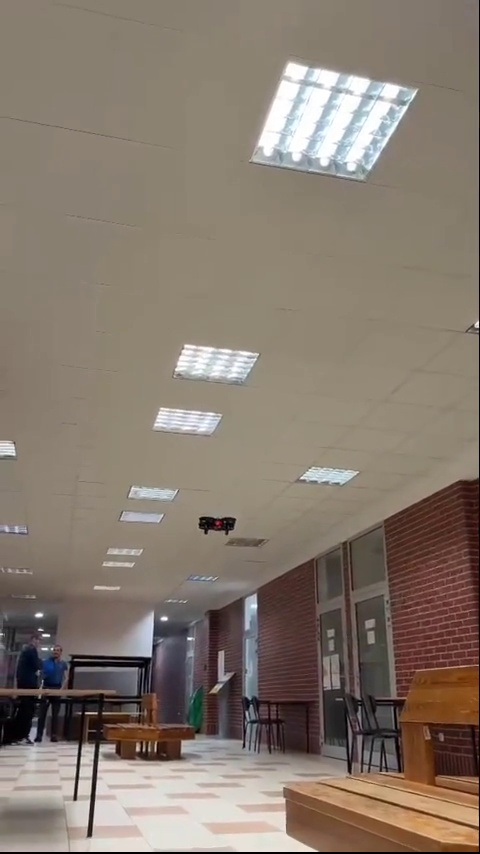drone: (192, 511, 245, 542)
no vest: (17, 626, 48, 740), (44, 644, 71, 746)
